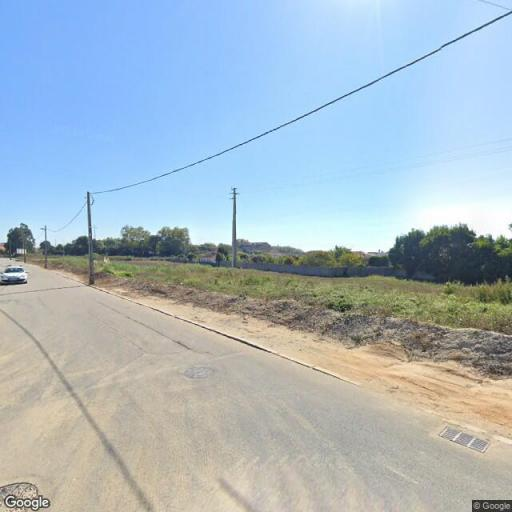mono_10: (229, 186, 240, 266)
